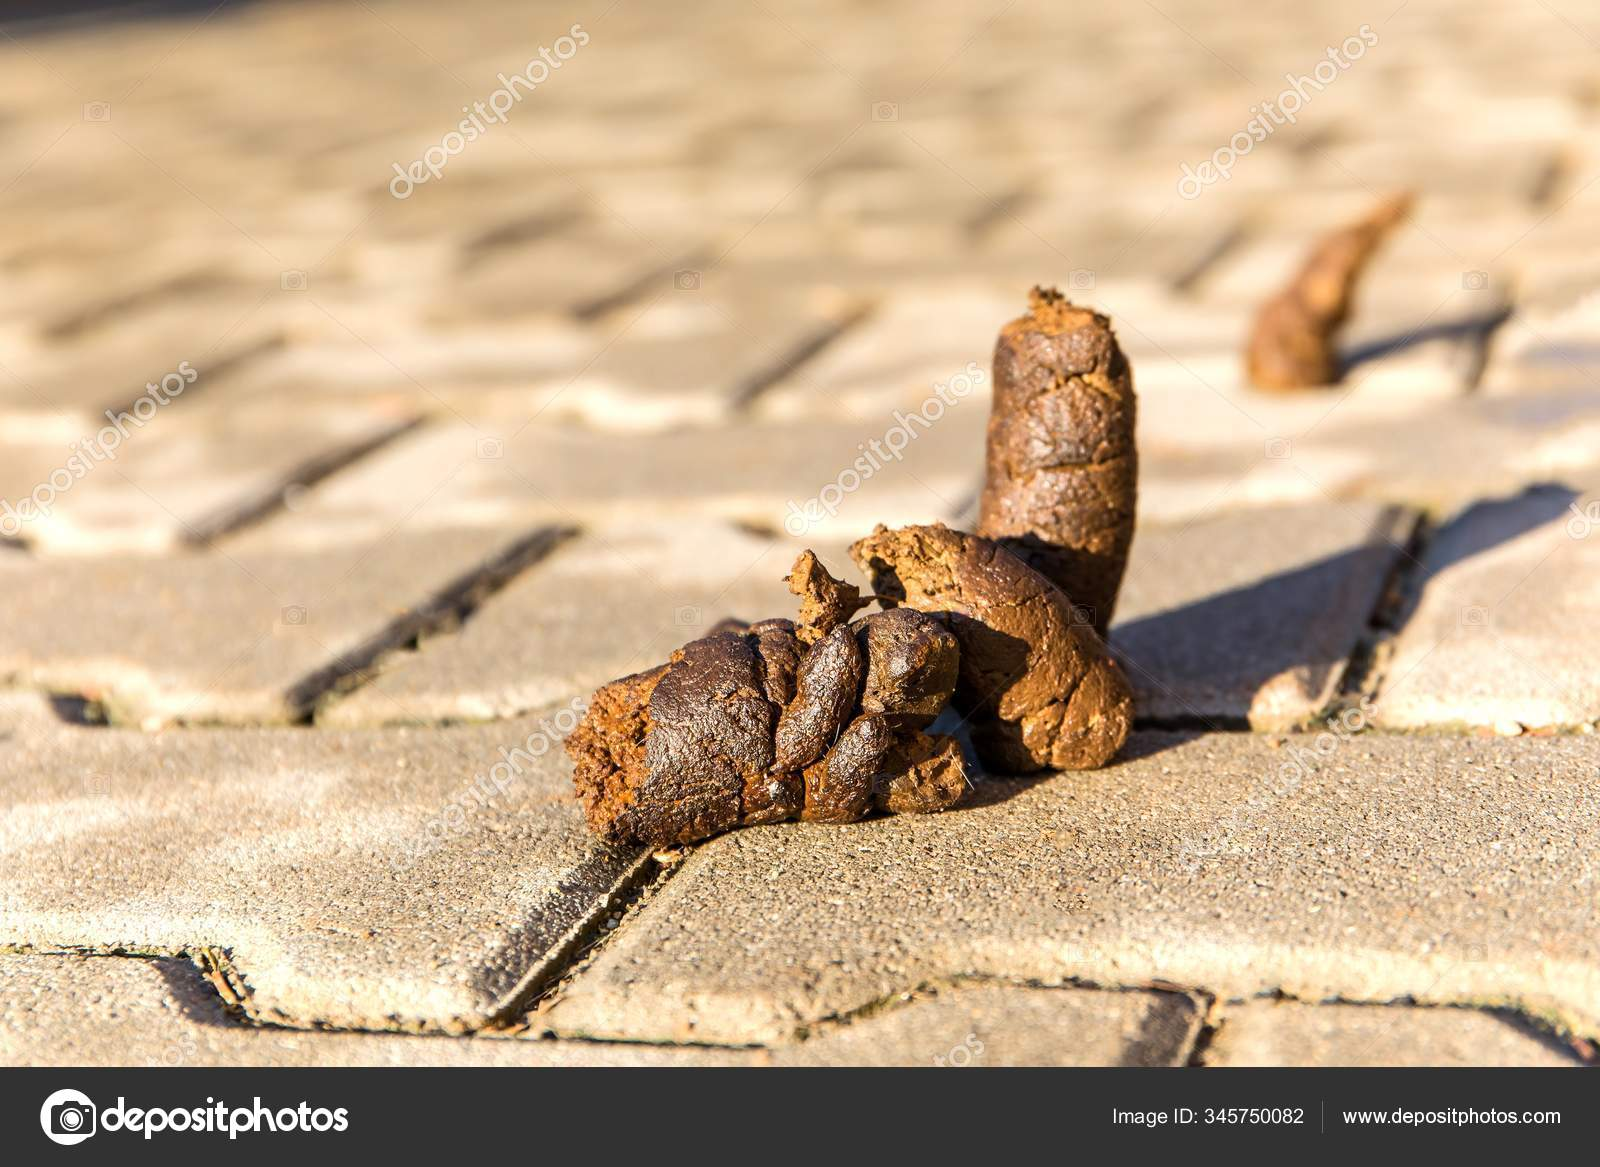Dog: (574, 302, 1147, 789)
